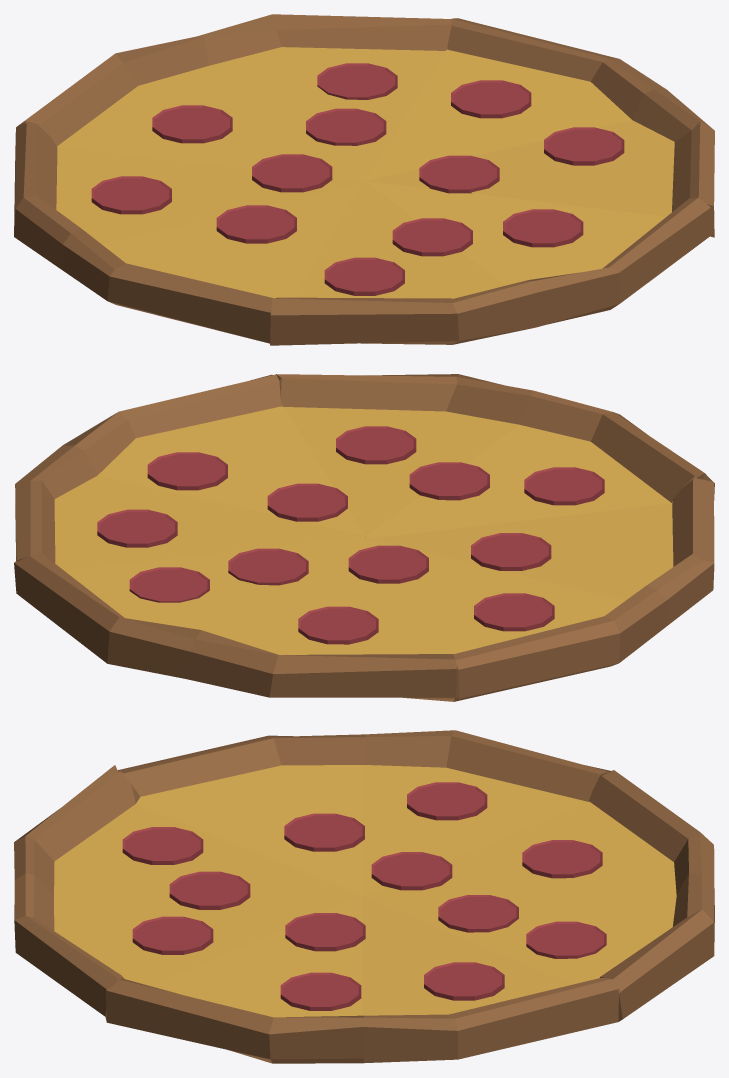
Rendered from pizza_fixed scale.glb.
3 renders of one model, top to bottom at view 1: azimuth 30°, elevation 25°; view 2: azimuth 150°, elevation 25°; view 3: azimuth 270°, elevation 25°, orthographic.
Parts seen in each view (by area): view 1: PizzaCrust.001; view 2: PizzaCrust.001; view 3: PizzaCrust.001.
Boxes of the visible parts, x1,y1,x2,y2 form: PizzaCrust.001: (14,14,714,345); PizzaCrust.001: (14,374,714,701); PizzaCrust.001: (14,730,714,1063).
Bounding box in the file's own units: 0.8416 × 0.0687 × 0.8402.
